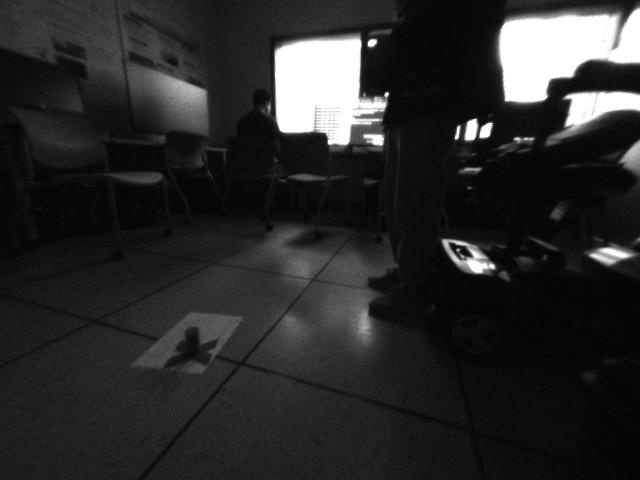x: (160, 325, 223, 375)
